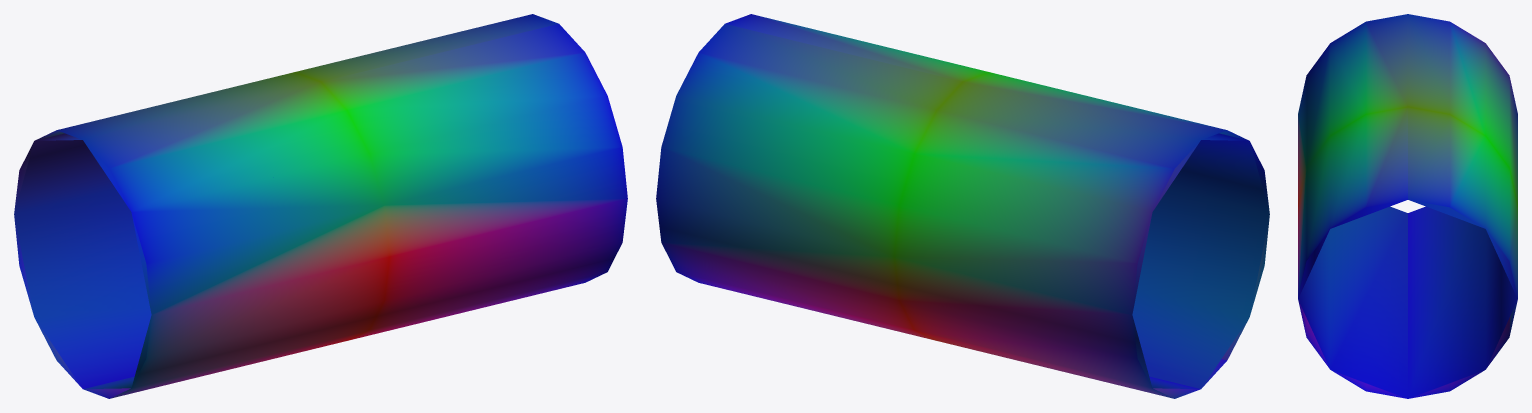
The model's file is PipeA_M_2.fbx.
3 renders of one model, left to right at view 1: azimuth 30°, elevation 25°; view 2: azimuth 150°, elevation 25°; view 3: azimuth 270°, elevation 25°, orthographic. The views are drawn at different scales.
Visible parts, largest first — view 1: Circle.005, Circle.006; view 2: Circle.005, Circle.006; view 3: Circle.005, Circle.006.
Boxes of the visible parts, x1,y1,x2,y2 form: Circle.005: (14, 14, 627, 398); Circle.006: (14, 133, 151, 389); Circle.005: (656, 14, 1269, 398); Circle.006: (1132, 133, 1269, 389); Circle.005: (1298, 14, 1517, 398); Circle.006: (1298, 200, 1517, 398).
Bounding box in the file's own units: 200 × 100 × 100.
